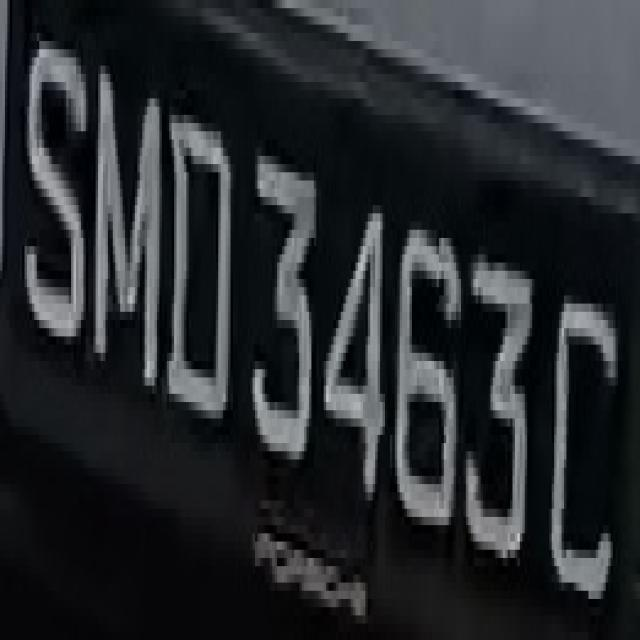3: (248, 115, 318, 500), (468, 222, 530, 599)
4: (321, 139, 397, 517)
6: (390, 180, 461, 542)
C: (552, 254, 620, 624)
D: (159, 74, 238, 459)
M: (91, 32, 162, 426)
S: (10, 24, 88, 386)
